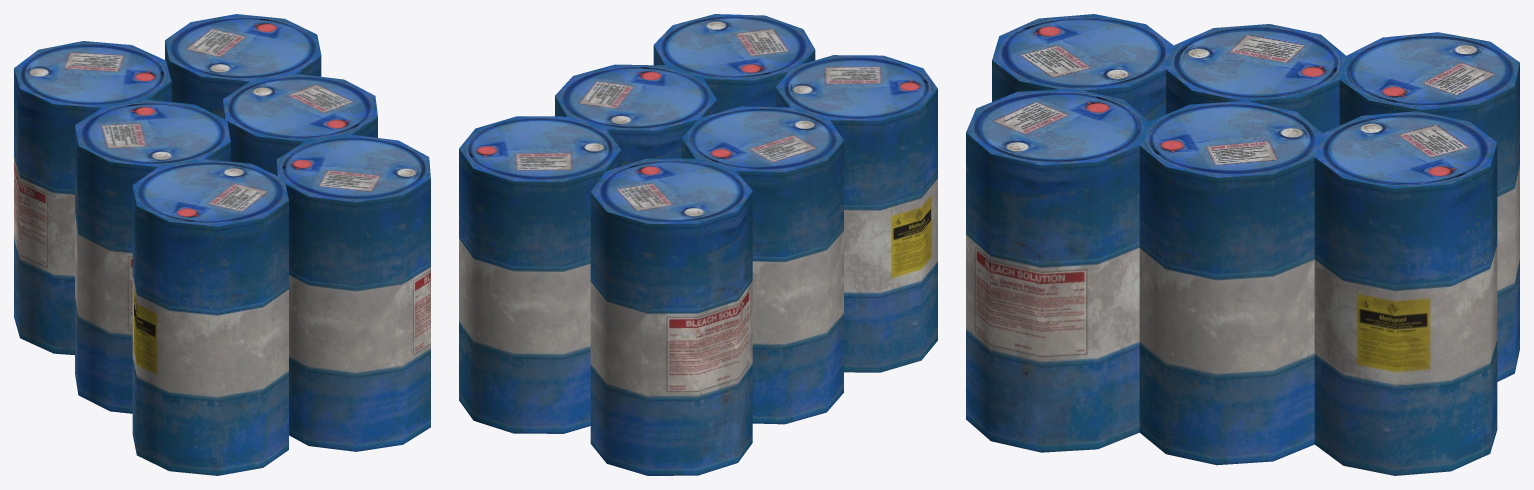
The model's file is Barrel_v3_quadro.004.glb.
The picture shows the model from 3 angles, left to right: view 1: azimuth 30°, elevation 25°; view 2: azimuth 150°, elevation 25°; view 3: azimuth 270°, elevation 25°; orthographic projection. The views are drawn at different scales.
Visible parts, largest first — view 1: Barrel_v3_quadro.004; view 2: Barrel_v3_quadro.004; view 3: Barrel_v3_quadro.004.
Boxes of the visible parts, box(x1,y1,x2,y2) form: Barrel_v3_quadro.004: box(14, 14, 430, 475); Barrel_v3_quadro.004: box(459, 14, 937, 475); Barrel_v3_quadro.004: box(966, 14, 1519, 475).
Bounding box in the file's own units: 1.25 × 0.9547 × 1.67.
Materials: 1 (1 with a texture image).
